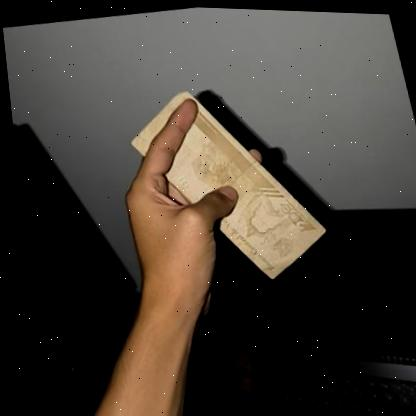five-back-vef: (113, 72, 333, 294)
